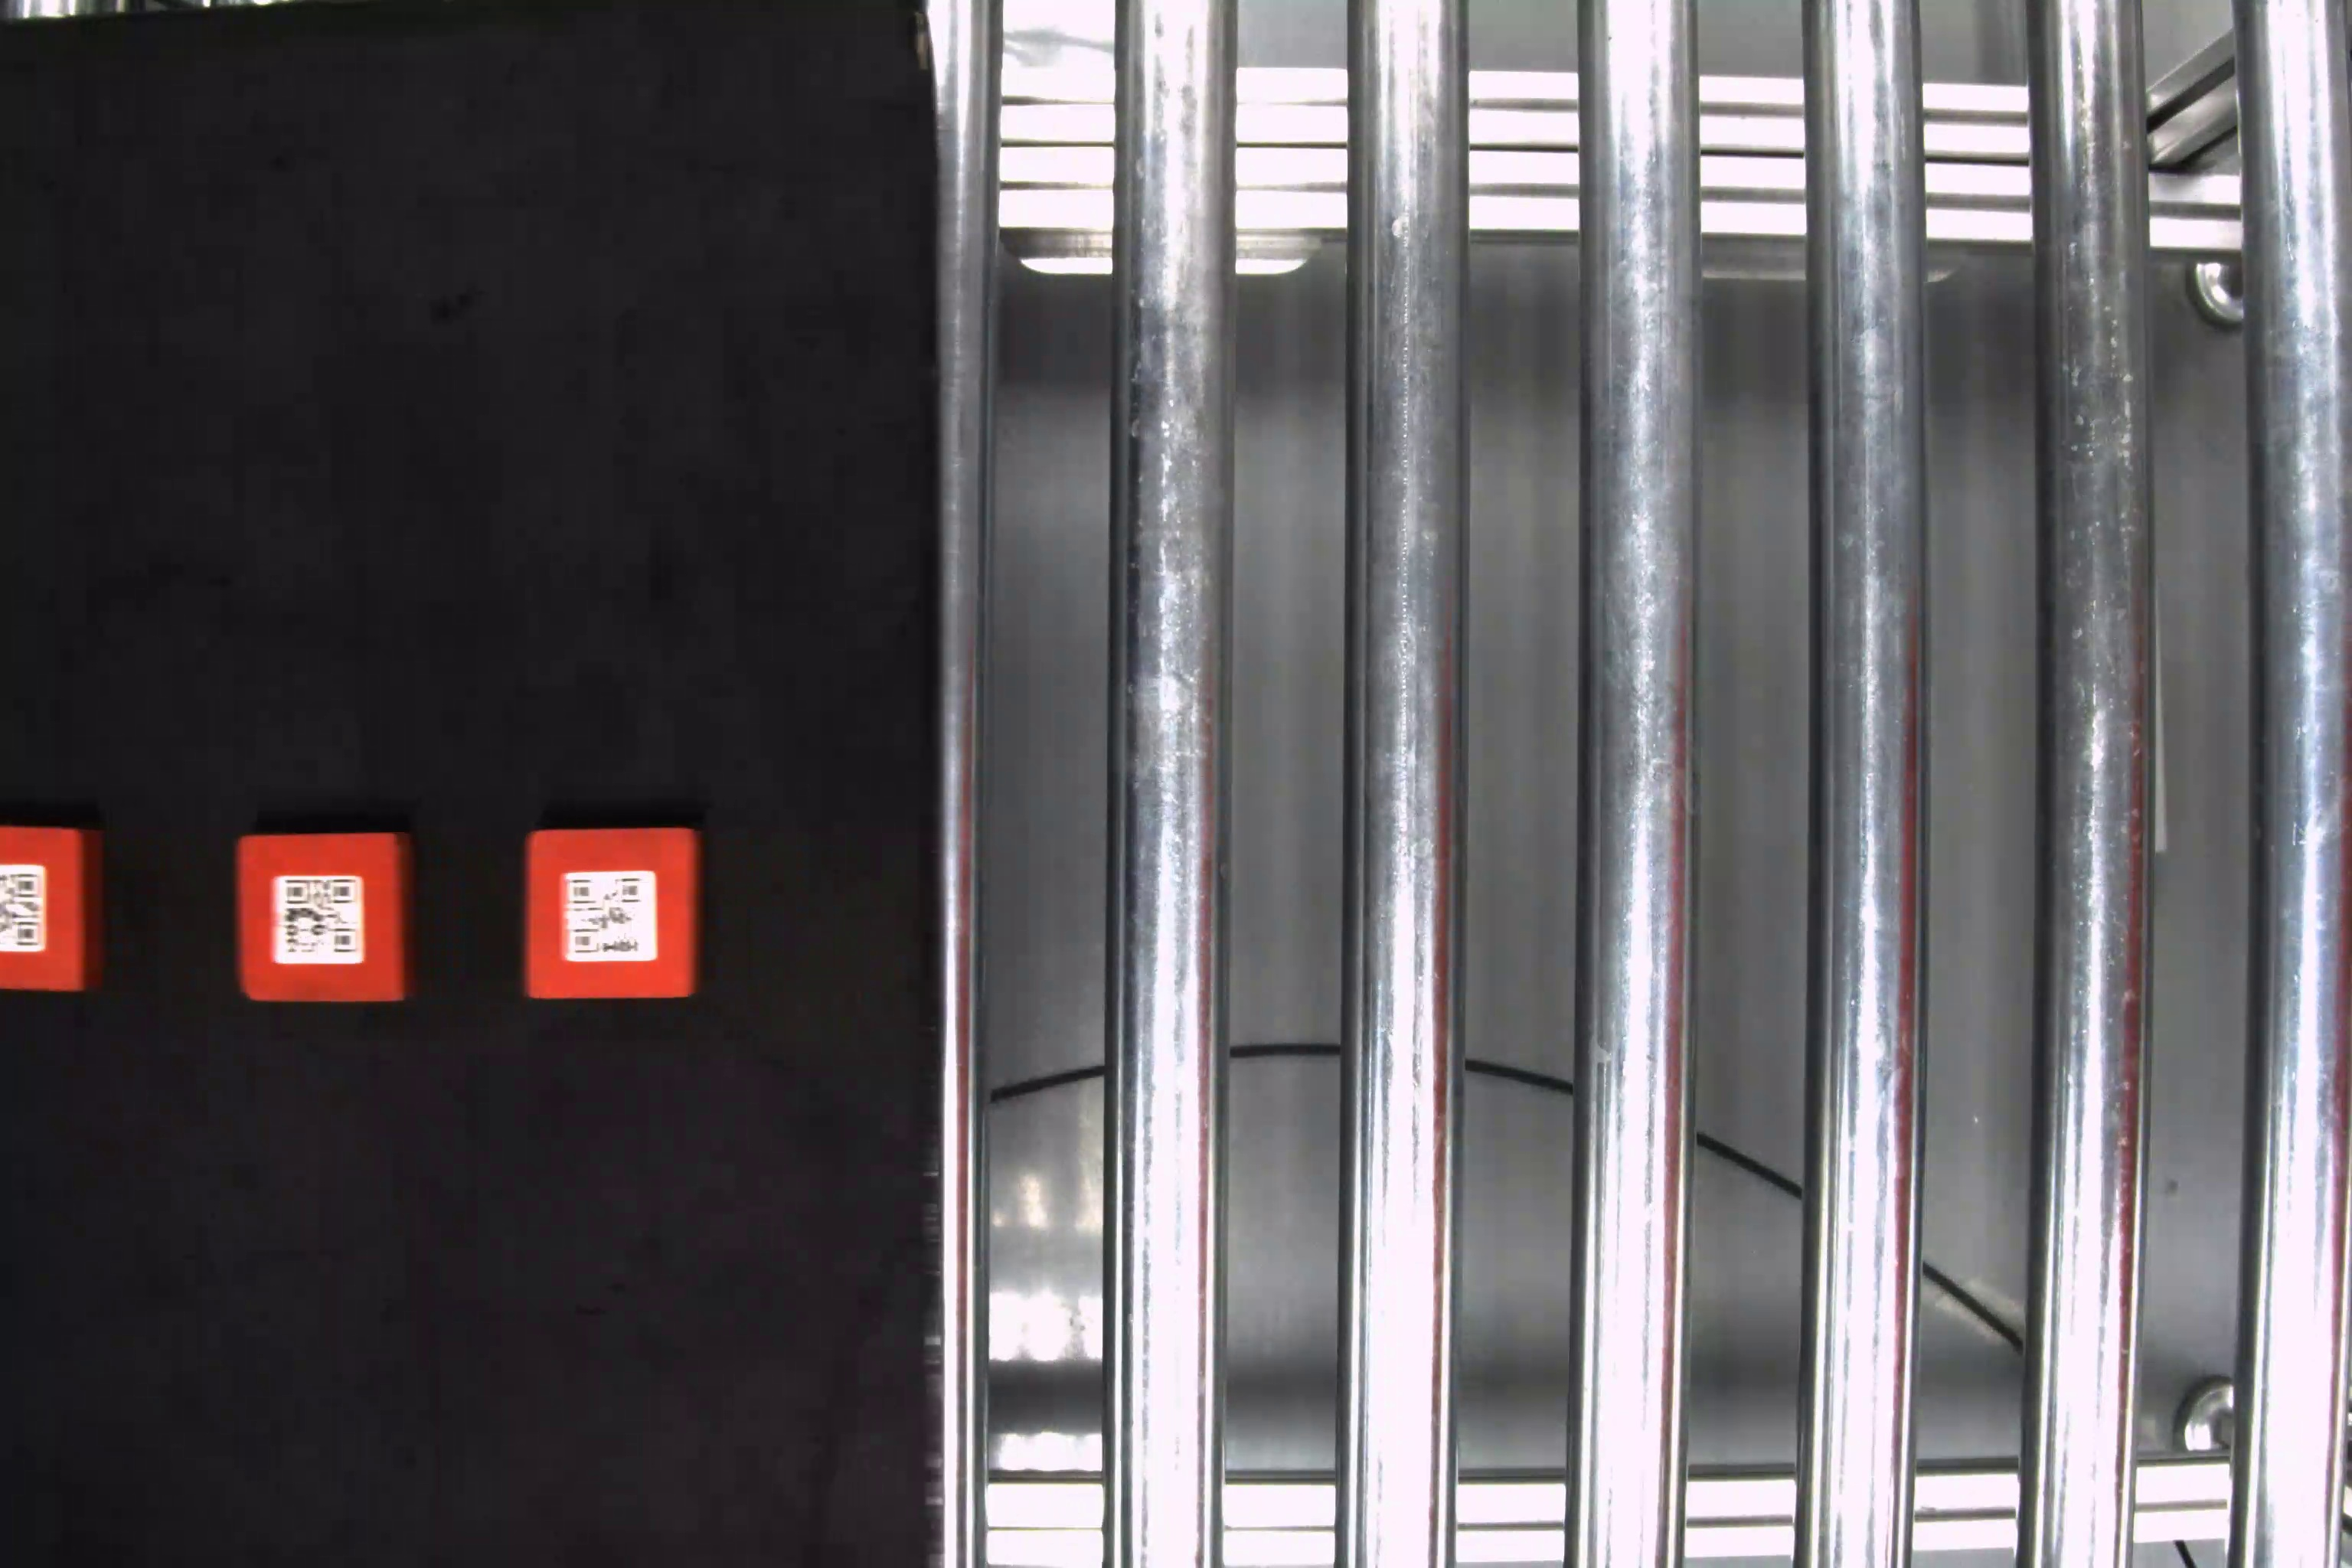wood: (521, 826, 710, 1006), (238, 831, 423, 1013), (3, 814, 115, 1001)
